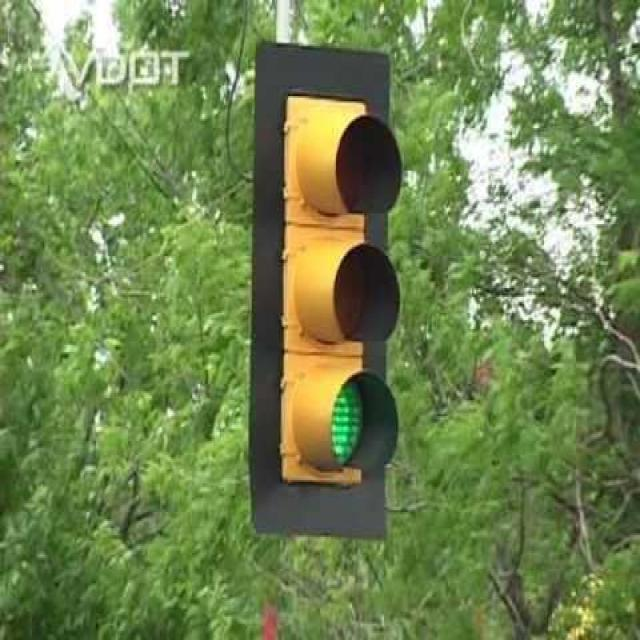Traffic Light -Green-: (260, 103, 409, 480)
